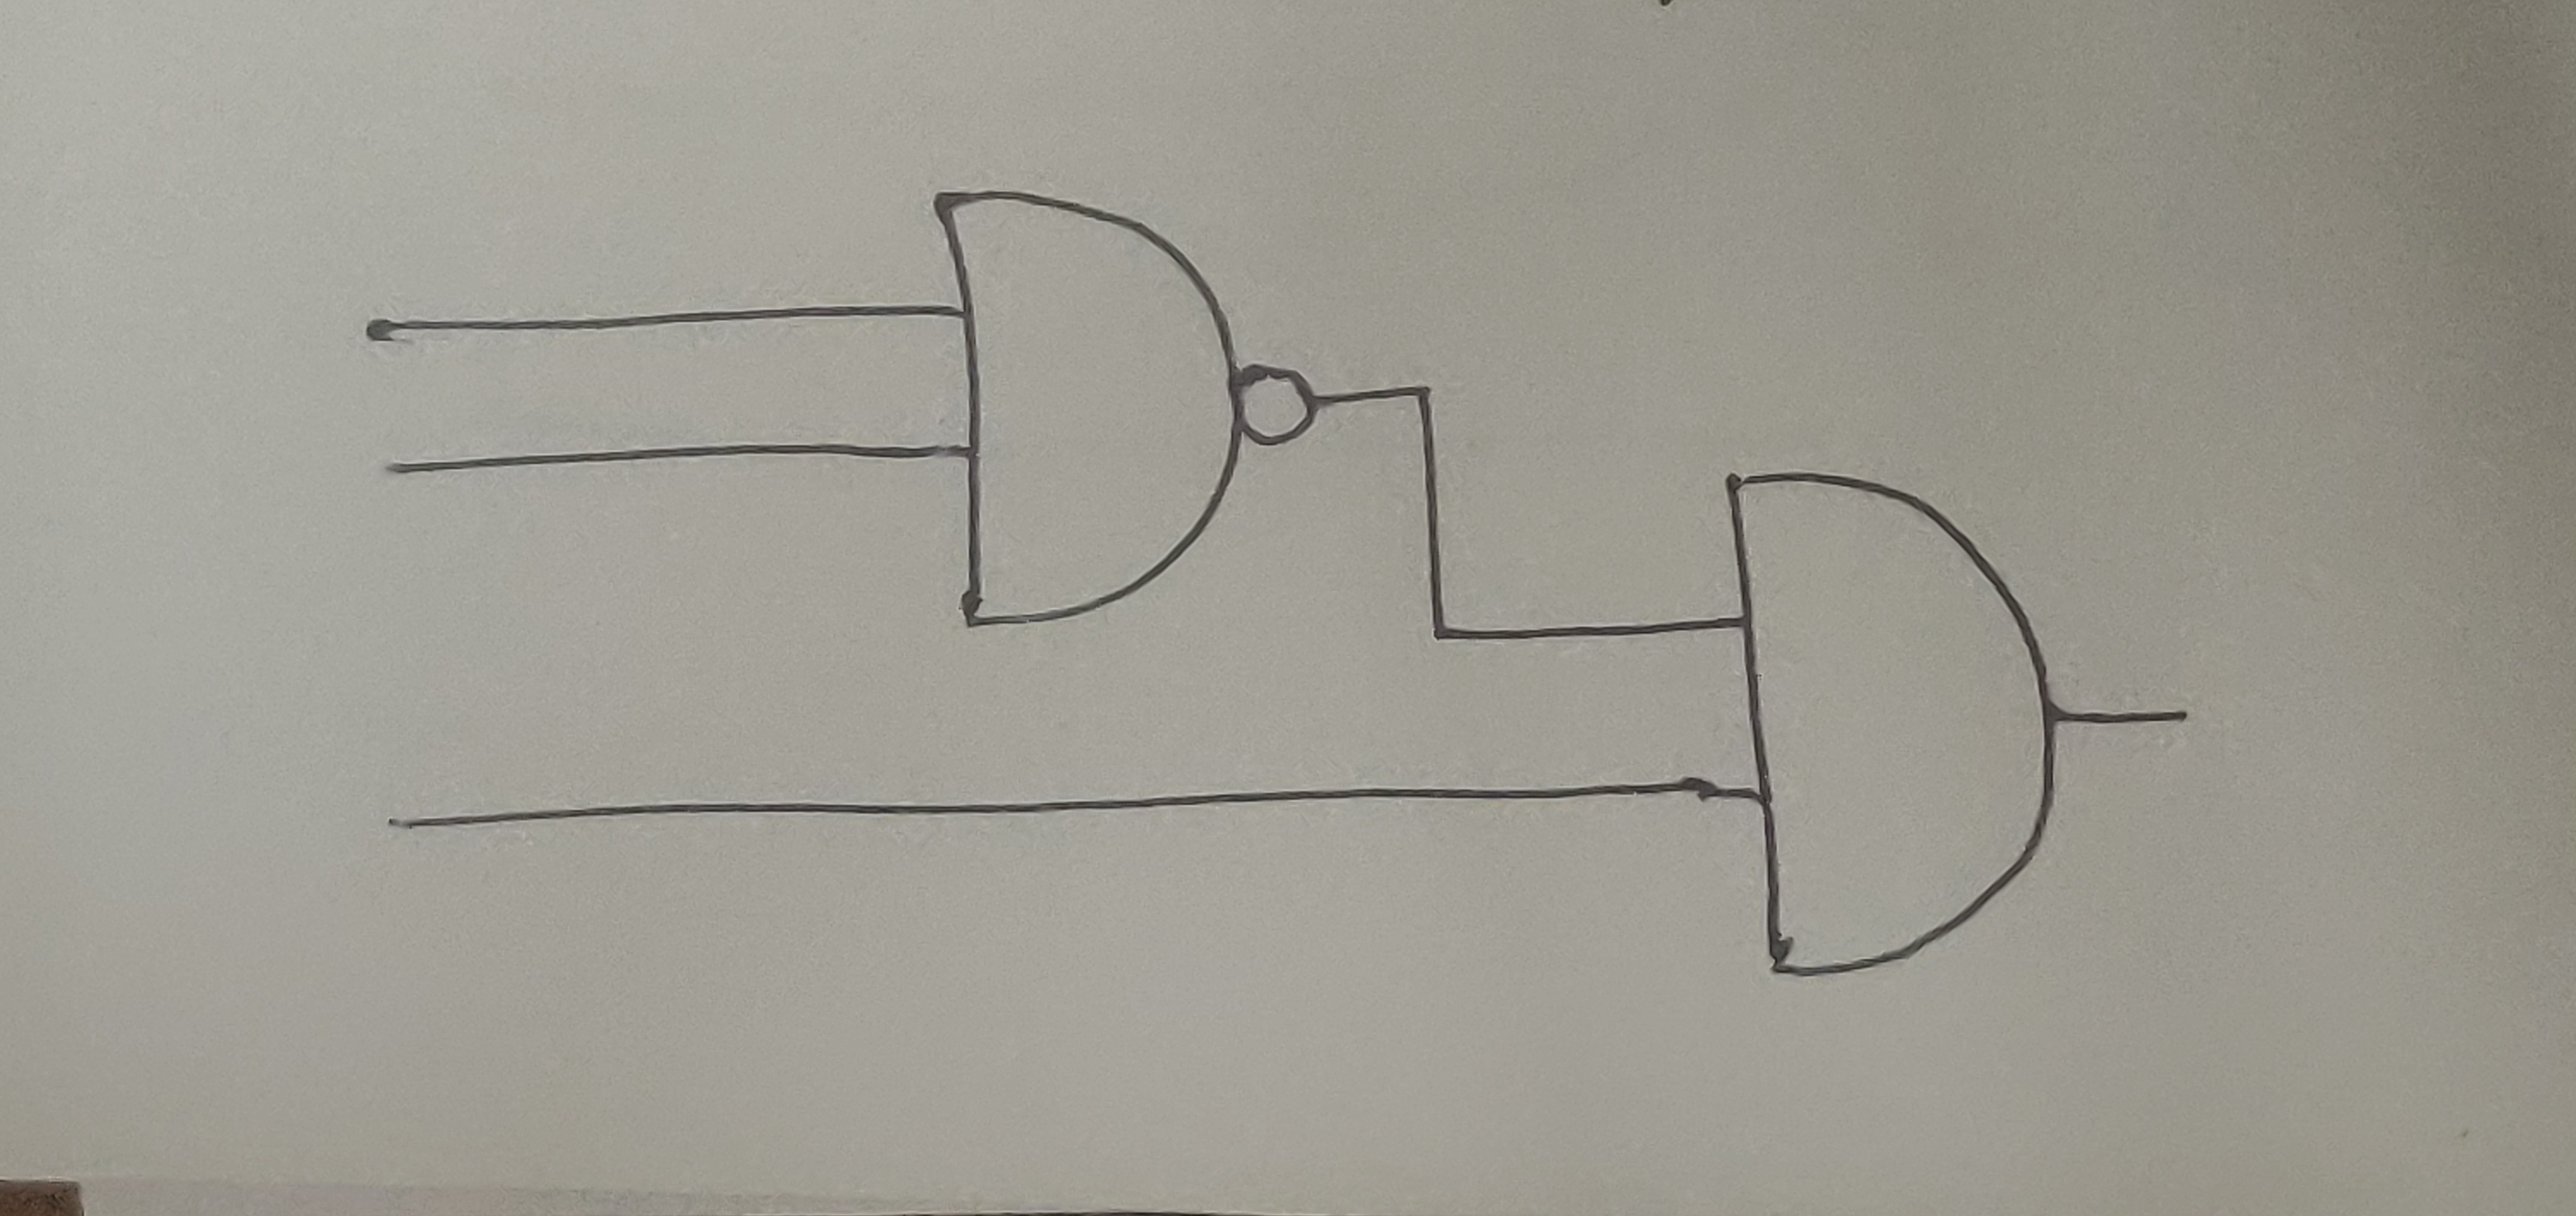and: (1718, 467, 2067, 979), (930, 181, 1249, 631)
not: (1235, 358, 1321, 450)
